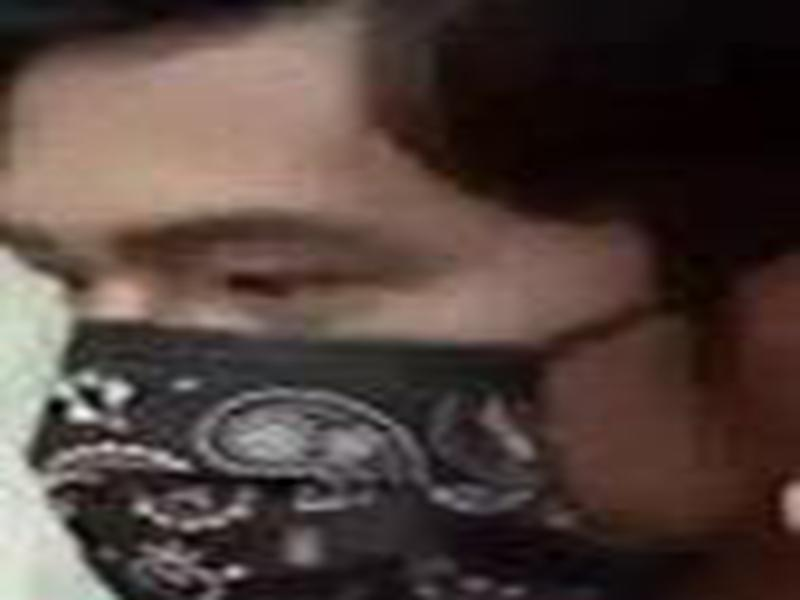with_mask: (2, 1, 800, 600)
